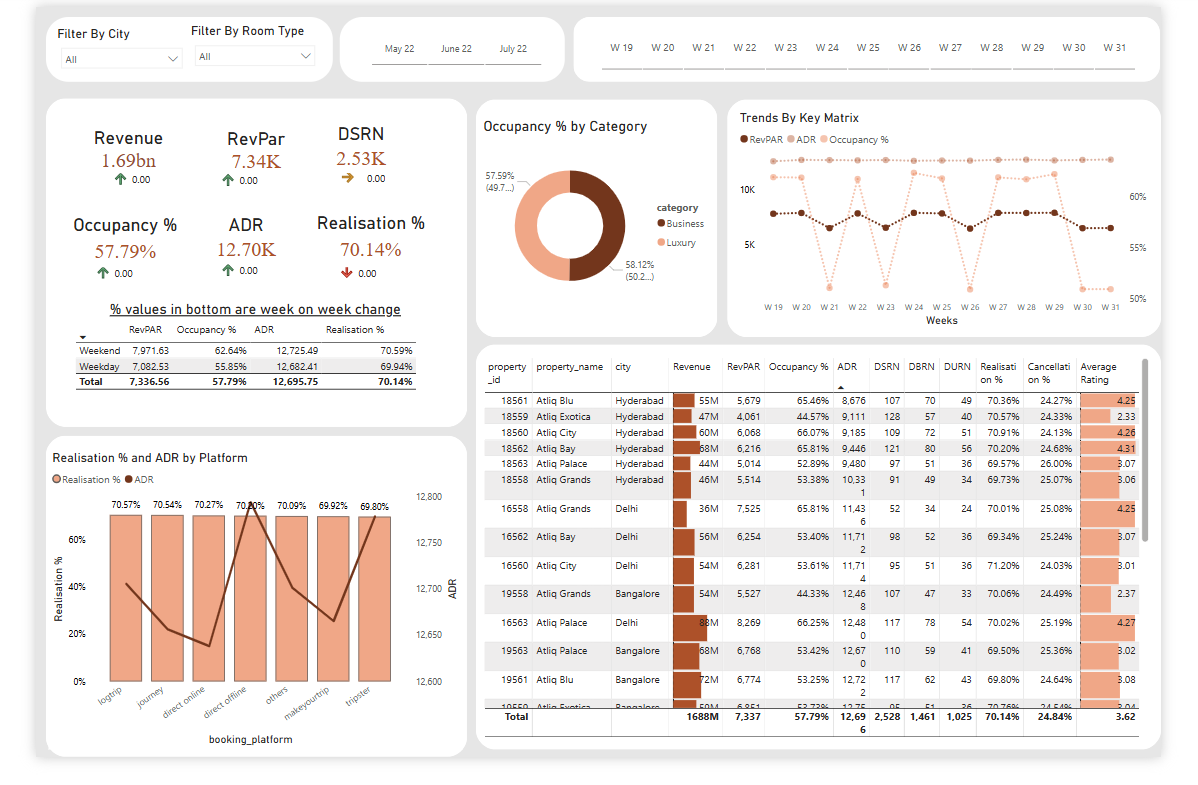

This screenshot's page, from the dashboard's own definition file:
{"tool":"powerbi","page":{"name":"Dashboard ","canvas":[1500,1000],"ordinal":0},"visuals":[{"type":"shape","box":[586.7,450,913.3,540],"z":0},{"type":"shape","box":[921.7,123.3,578.3,316.7],"z":1000},{"type":"shape","box":[586.7,123.3,321.7,316.7],"z":2000},{"type":"shape","box":[13.3,571.7,561.7,428.3],"z":3000},{"type":"shape","box":[13.3,121.7,561.7,438.3],"z":4000},{"type":"tableEx","fields":{"Values":["Key_measure.Revenue WoW change %"]},"box":[93.3,190,81.7,68.3],"z":5000},{"type":"shape","box":[715.9,13,783.8,86.6],"z":6000},{"type":"shape","box":[405.6,13,300.2,86.6],"z":7000},{"type":"shape","box":[13,13,382.5,86.6],"z":8000},{"type":"tableEx","fields":{"Values":["dim_hotels.property_id","dim_hotels.property_name","dim_hotels.city","Key_measure.Revenue","Key_measure.RevPAR","Key_measure.Occupancy %","Key_measure.ADR","Key_measure.DSRN","Key_measure.DBRN","Key_measure.DURN","Key_measure.Realisation %","Key_measure.Cancellation %"]},"box":[591.7,463.3,896.7,515],"z":9000},{"type":"slicer","title":"Filter By Room Type","fields":{"Values":["dim_rooms.room_class"]},"box":[202.1,21.7,180.4,69.3],"z":10000},{"type":"slicer","title":"Filter By City ","fields":{"Values":["dim_hotels.city"]},"box":[23.1,24.5,181.9,66.4],"z":11000},{"type":"slicer","fields":{"Values":["dim_date.mmm yy"]},"box":[421.5,27.4,275.7,57.7],"z":12000},{"type":"slicer","fields":{"Values":["dim_date.week no"]},"box":[728.9,18.8,760.7,72.2],"z":13000},{"type":"card","title":"Revenue ","fields":{"Values":["Key_measure.Revenue"]},"box":[36.7,160,173.3,61.7],"z":14000},{"type":"donutChart","title":"Occupancy % by Category","fields":{"Category":["dim_hotels.category"],"Y":["Key_measure.Occupancy %"]},"box":[591.7,148.3,315,265],"z":15000},{"type":"lineChart","title":"Trends By Key Matrix","fields":{"Category":["dim_date.week no"],"Y":["Key_measure.RevPAR","Key_measure.ADR"],"Y2":["Key_measure.Occupancy %"]},"box":[933.8,136.2,553.8,295],"z":16000},{"type":"lineStackedColumnComboChart","title":"Realisation % and ADR by Platform","fields":{"Category":["fact_bookings.booking_platform"],"Y":["Key_measure.Realisation %"],"Y2":["Key_measure.ADR"]},"box":[16.7,590,551.7,400],"z":17000},{"type":"tableEx","title":"% values in bottom are week on week change","fields":{"Values":["dim_date.day_type","Key_measure.RevPAR","Key_measure.Occupancy %","Key_measure.ADR","Key_measure.Realisation %"]},"box":[46.7,391.7,491.7,153.3],"z":18000},{"type":"tableEx","fields":{"Values":["Key_measure.Realisation WoW change %"]},"box":[395,315,87.5,55],"z":19000},{"type":"tableEx","fields":{"Values":["Key_measure.Occupancy WoW change %"]},"box":[70,315,105,65],"z":20000},{"type":"tableEx","fields":{"Values":["Key_measure.ADR WoW change %"]},"box":[236.7,311.7,101.7,68.3],"z":21000},{"type":"tableEx","fields":{"Values":["Key_measure.DSRN WoW change %"]},"box":[396.7,183.3,86.7,75],"z":22000},{"type":"tableEx","fields":{"Values":["Key_measure.Revpar WoW change %"]},"box":[236.7,191.7,113.3,61.7],"z":23000},{"type":"card","title":"RevPar","fields":{"Values":["Key_measure.RevPAR"]},"box":[205,161.7,176.7,60],"z":24000},{"type":"card","title":"DSRN","fields":{"Values":["Key_measure.DSRN"]},"box":[355,155,156.7,66.7],"z":25000},{"type":"card","title":"Occupancy %","fields":{"Values":["Key_measure.Occupancy %"]},"box":[36.7,276.7,165,70],"z":26000},{"type":"card","title":"ADR","fields":{"Values":["Key_measure.ADR"]},"box":[205,276.2,150,66.2],"z":27000},{"type":"card","title":"Realisation %","fields":{"Values":["Key_measure.Realisation %"]},"box":[338.3,273.3,216.7,73.3],"z":28000}]}

Visuals, with their boxes in screenshot pixels (x1, y1, x2, y2), scaled from the page's 1500x1000 canvas onto the 1198x785 screenshot:
shape: bbox=[469, 353, 1197, 777]
shape: bbox=[736, 97, 1197, 345]
shape: bbox=[469, 97, 726, 345]
shape: bbox=[11, 449, 459, 784]
shape: bbox=[11, 96, 459, 440]
tableEx - Key_measure.Revenue WoW change %: bbox=[75, 149, 140, 203]
shape: bbox=[572, 10, 1197, 78]
shape: bbox=[324, 10, 564, 78]
shape: bbox=[10, 10, 316, 78]
tableEx - dim_hotels.property_id x dim_hotels.property_name: bbox=[473, 364, 1189, 768]
"Filter By Room Type" slicer: bbox=[161, 17, 305, 71]
"Filter By City " slicer: bbox=[18, 19, 164, 71]
slicer - dim_date.mmm yy: bbox=[337, 22, 557, 67]
slicer - dim_date.week no: bbox=[582, 15, 1190, 71]
"Revenue " card: bbox=[29, 126, 168, 174]
"Occupancy % by Category" donutChart: bbox=[473, 116, 724, 324]
"Trends By Key Matrix" lineChart: bbox=[746, 107, 1188, 338]
"Realisation % and ADR by Platform" lineStackedColumnComboChart: bbox=[13, 463, 454, 777]
"% values in bottom are week on week change" tableEx: bbox=[37, 307, 430, 428]
tableEx - Key_measure.Realisation WoW change %: bbox=[315, 247, 385, 290]
tableEx - Key_measure.Occupancy WoW change %: bbox=[56, 247, 140, 298]
tableEx - Key_measure.ADR WoW change %: bbox=[189, 245, 270, 298]
tableEx - Key_measure.DSRN WoW change %: bbox=[317, 144, 386, 203]
tableEx - Key_measure.Revpar WoW change %: bbox=[189, 150, 280, 199]
"RevPar" card: bbox=[164, 127, 305, 174]
"DSRN" card: bbox=[284, 122, 409, 174]
"Occupancy %" card: bbox=[29, 217, 161, 272]
"ADR" card: bbox=[164, 217, 284, 269]
"Realisation %" card: bbox=[270, 215, 443, 272]
